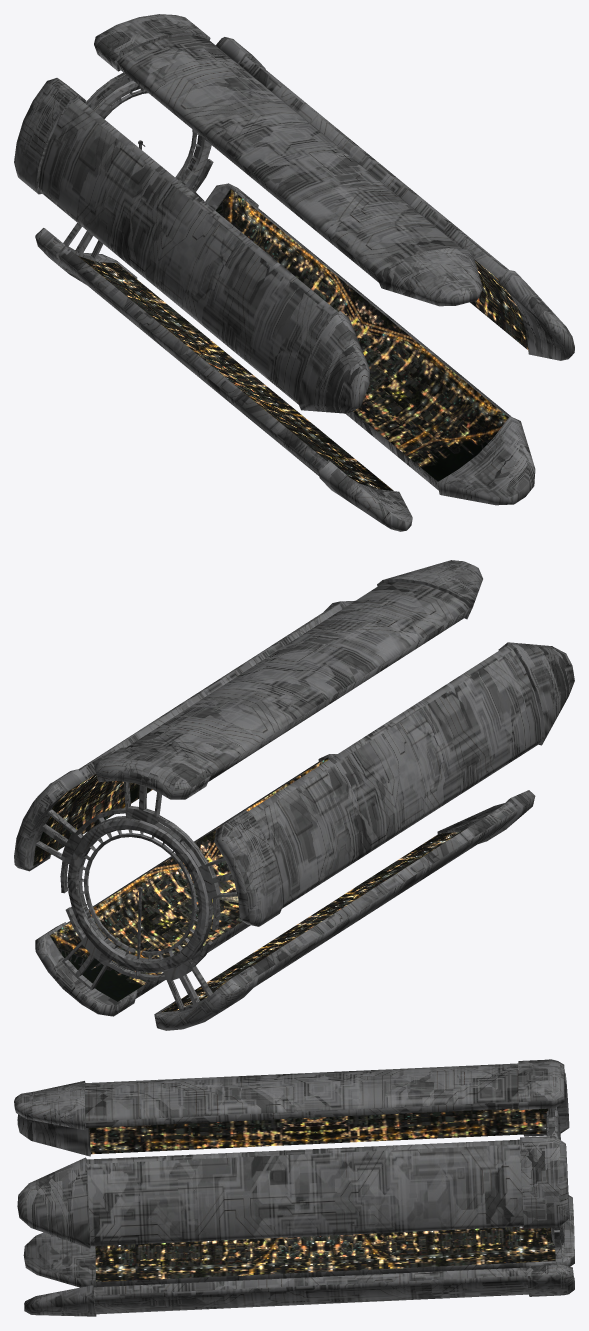
The picture shows the model from 3 angles, top to bottom: view 1: azimuth 30°, elevation 25°; view 2: azimuth 150°, elevation 25°; view 3: azimuth 270°, elevation 25°; orthographic projection. The views are drawn at different scales.
Parts seen in each view (by area): view 1: Wards, Presidium Ring; view 2: Wards, Presidium Ring; view 3: Wards, Presidium Ring.
Part boxes in pixels (<box>): Wards: <box>14,14,574,531</box>; Presidium Ring: <box>63,72,213,260</box>; Wards: <box>14,560,574,1030</box>; Presidium Ring: <box>33,782,237,1011</box>; Wards: <box>14,1059,574,1316</box>; Presidium Ring: <box>546,1107,564,1264</box>.
Size of the model in its own units: 244 by 265 by 580.
2 materials, 2 textured.
